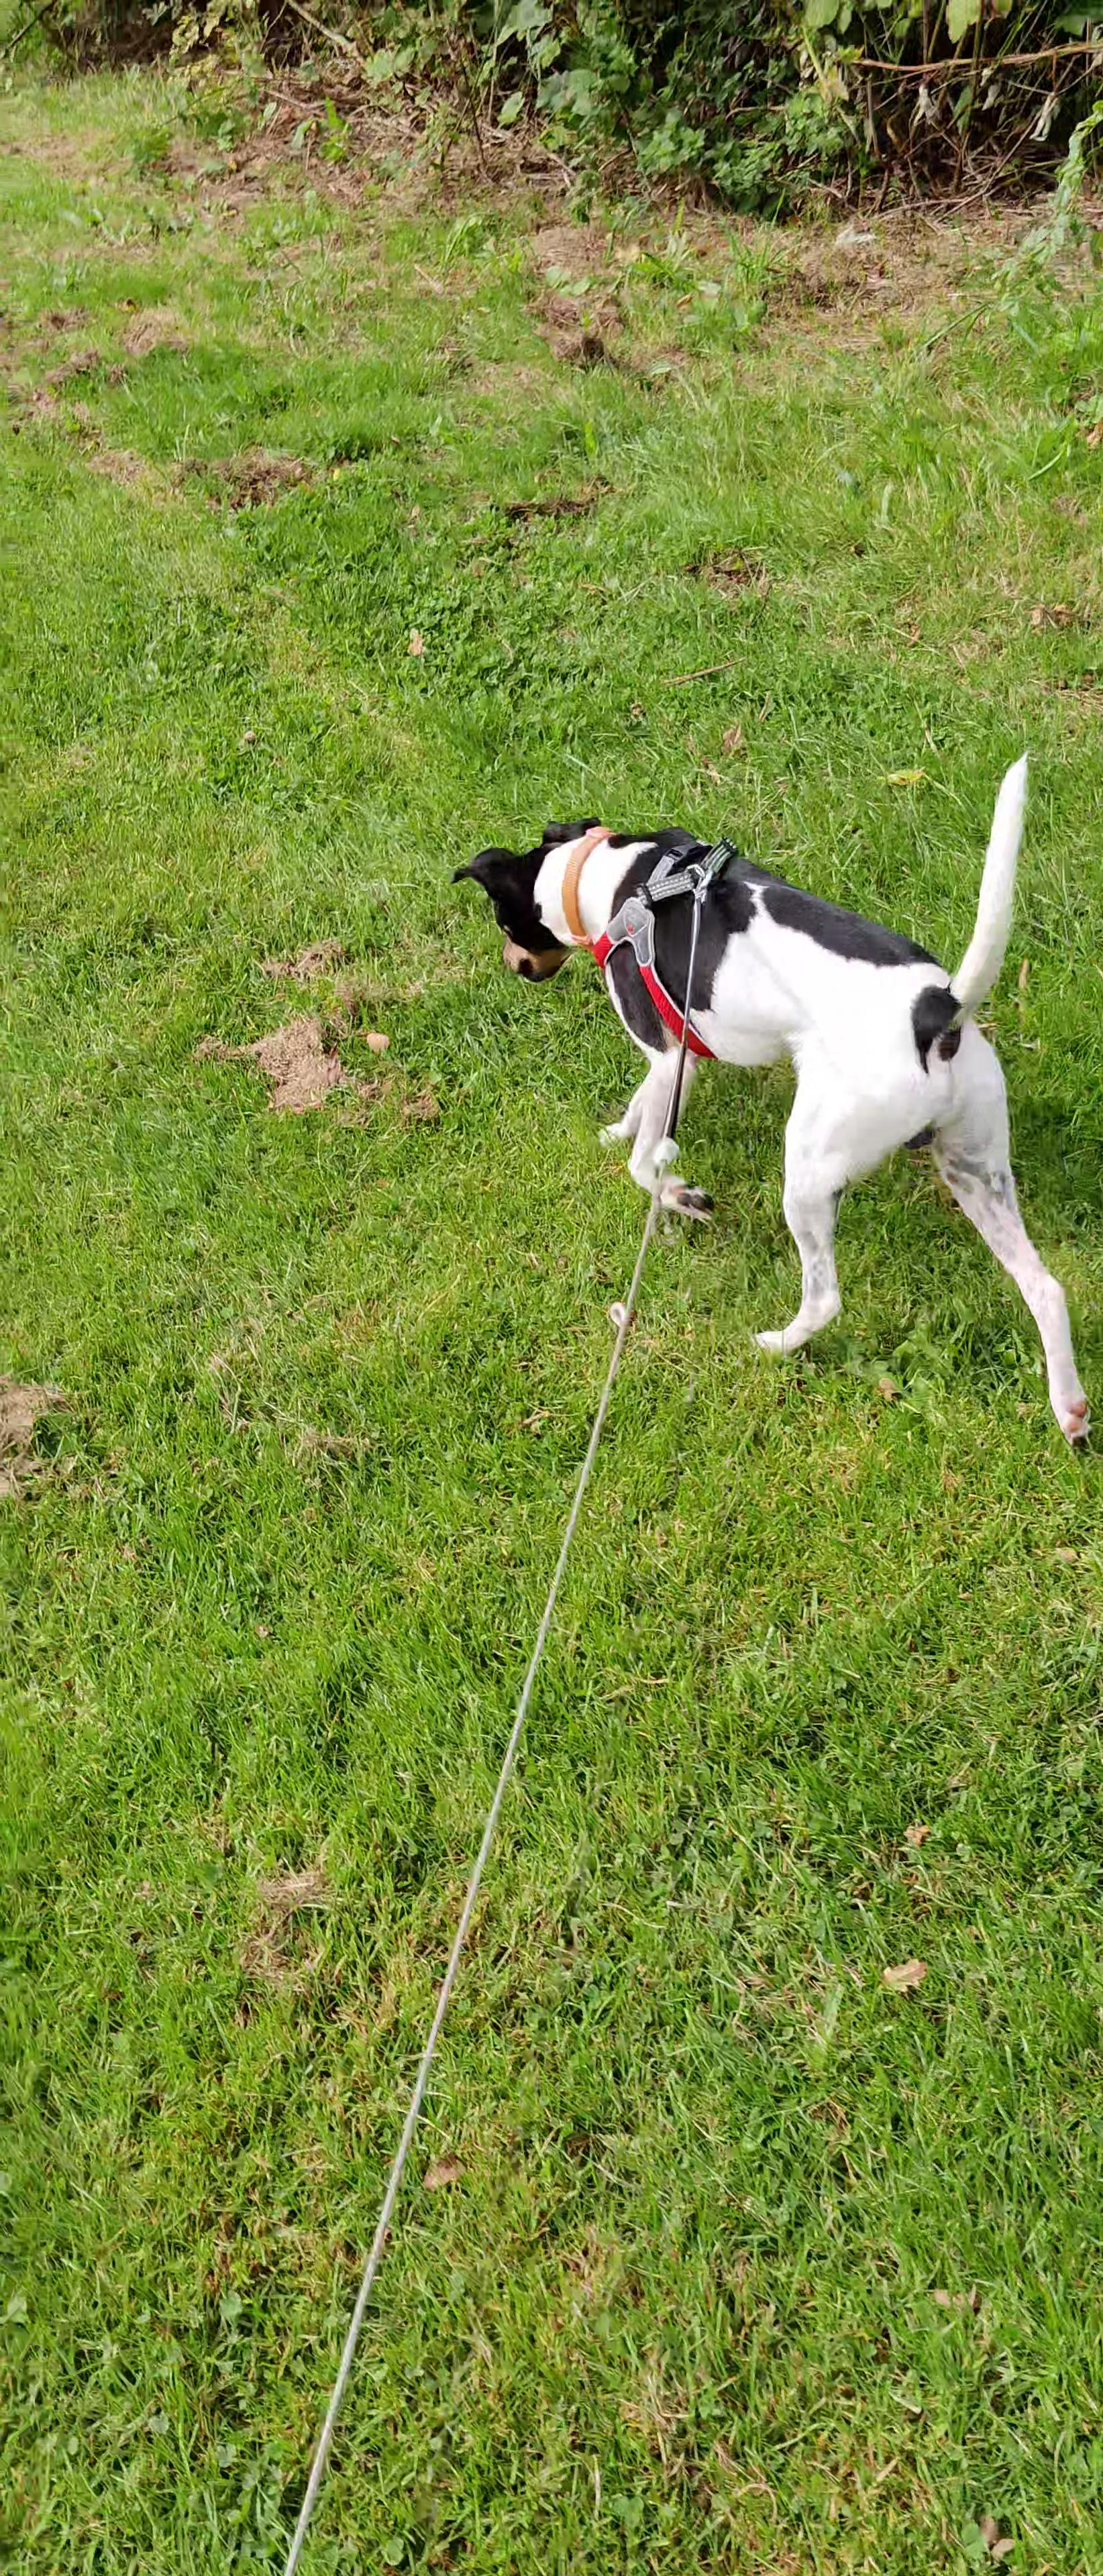Dog: (444, 741, 1103, 1462)
